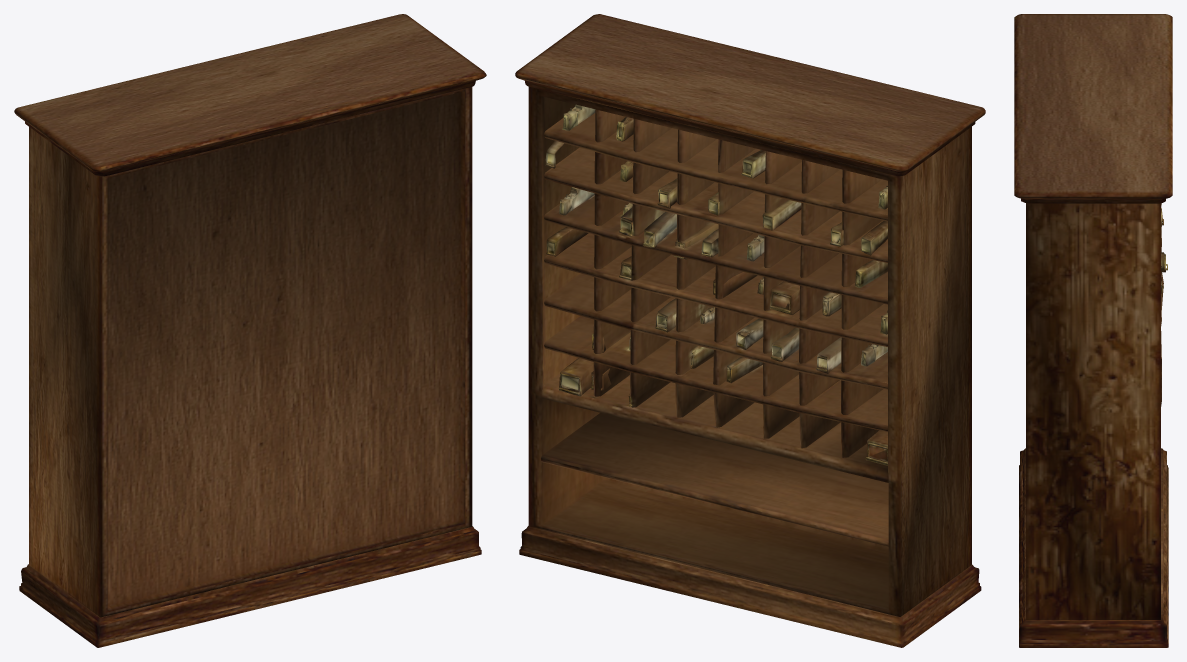
File: theme-mail-sorting-rack-v05.glb
3 renders of one model, left to right at view 1: azimuth 30°, elevation 25°; view 2: azimuth 150°, elevation 25°; view 3: azimuth 270°, elevation 25°, orthographic. The views are drawn at different scales.
Parts seen in each view (by area): view 1: tripo_node_8f3f672b-27a3-4e9e-82b3-30a6ab4d7f68; view 2: tripo_node_8f3f672b-27a3-4e9e-82b3-30a6ab4d7f68; view 3: tripo_node_8f3f672b-27a3-4e9e-82b3-30a6ab4d7f68.
Boxes of the visible parts, bbox=[...] form: tripo_node_8f3f672b-27a3-4e9e-82b3-30a6ab4d7f68: bbox=[14, 14, 486, 647]; tripo_node_8f3f672b-27a3-4e9e-82b3-30a6ab4d7f68: bbox=[515, 14, 985, 647]; tripo_node_8f3f672b-27a3-4e9e-82b3-30a6ab4d7f68: bbox=[1014, 14, 1172, 647].
Size of the model in its own units: 1.49 by 1.75 by 0.5514.
1 material, 1 textured.
